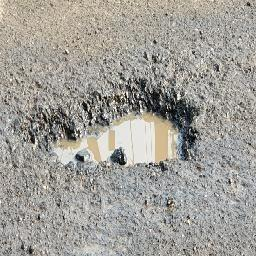water accumulation: (49, 106, 193, 168)
